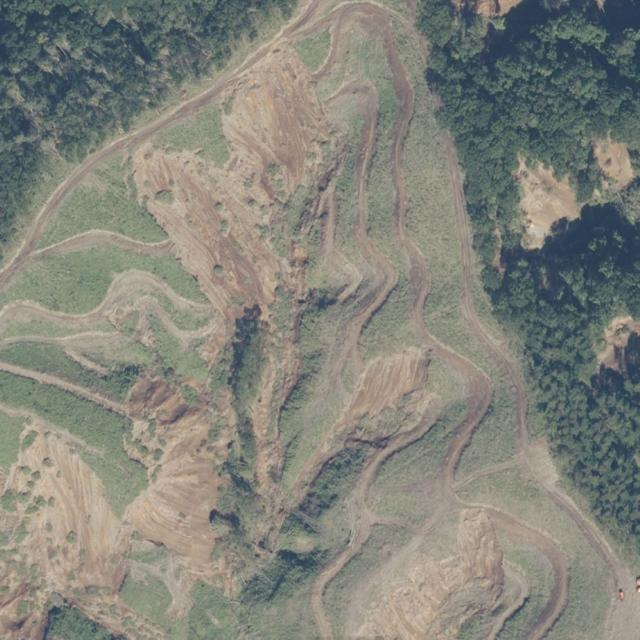landslide: (2, 378, 226, 639), (134, 43, 329, 319), (517, 158, 582, 249)
